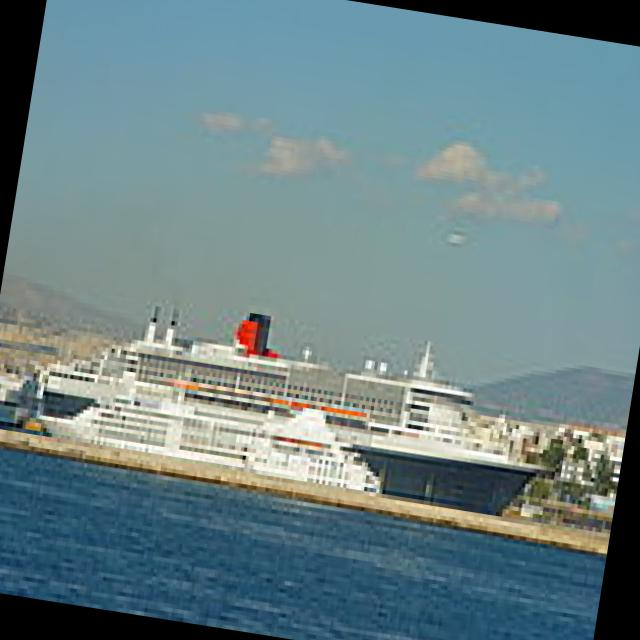boat: (43, 312, 557, 544)
